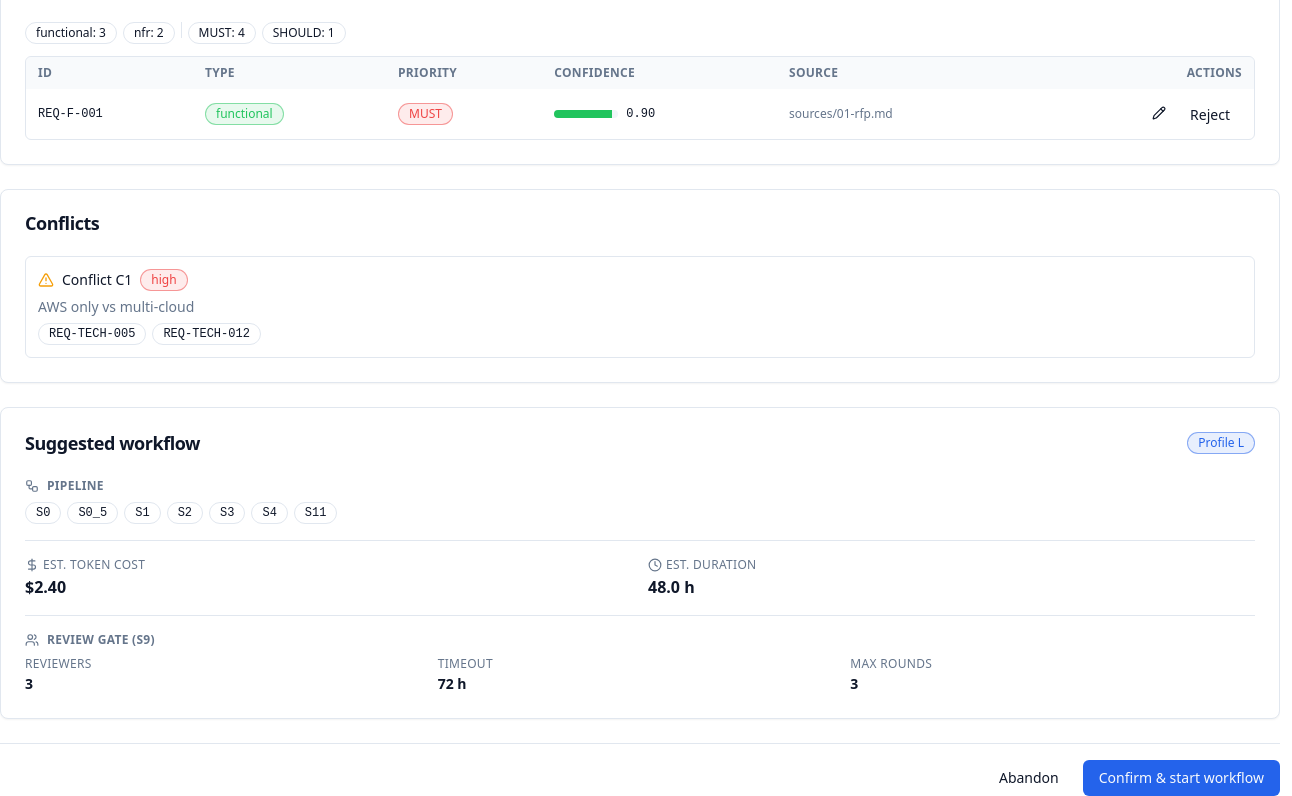
Test: BidPreviewPanel › surfaces confirm error in the panel error banner
(page scrolled)
Click the button with test id "confirm-button" at (1181, 778), box [1083,760,1280,795]
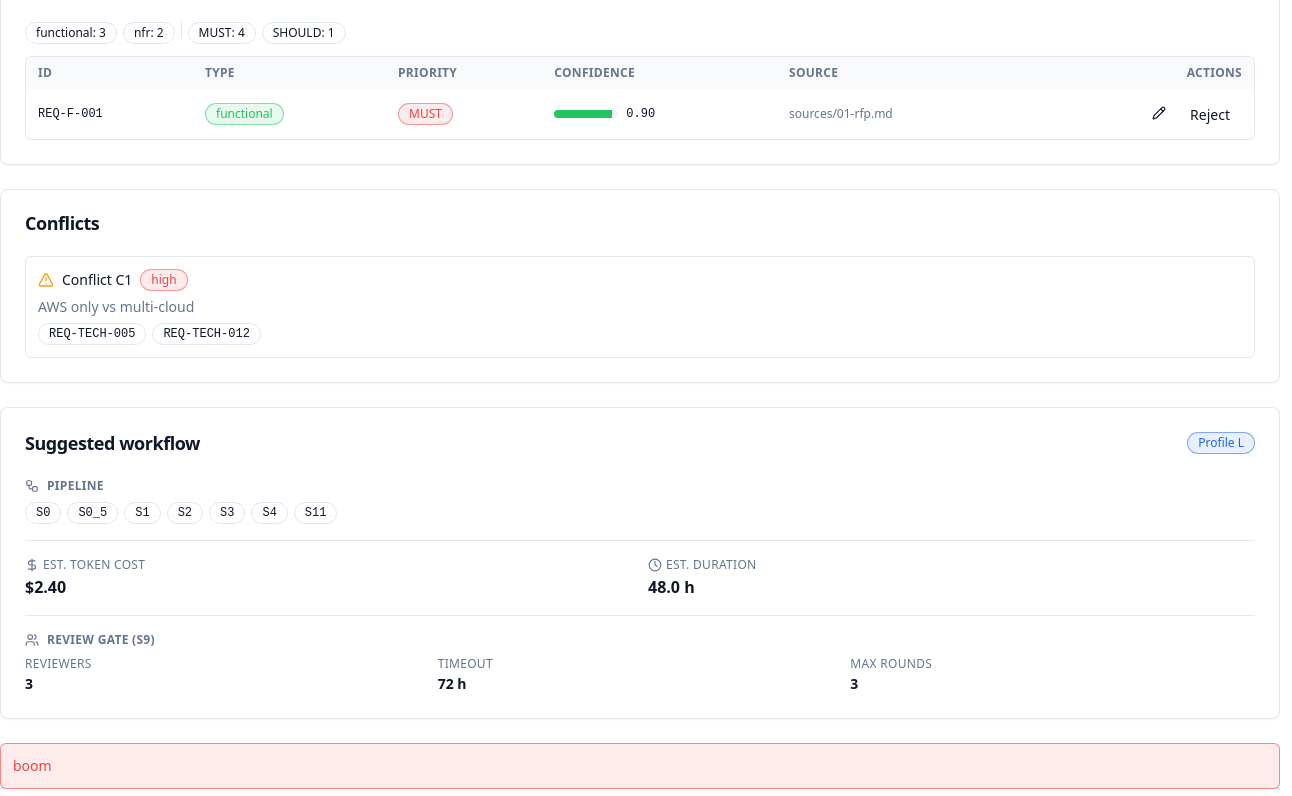
Expected: the text with test id "bid-preview-error" reads "boom", [13,756,52,775]
